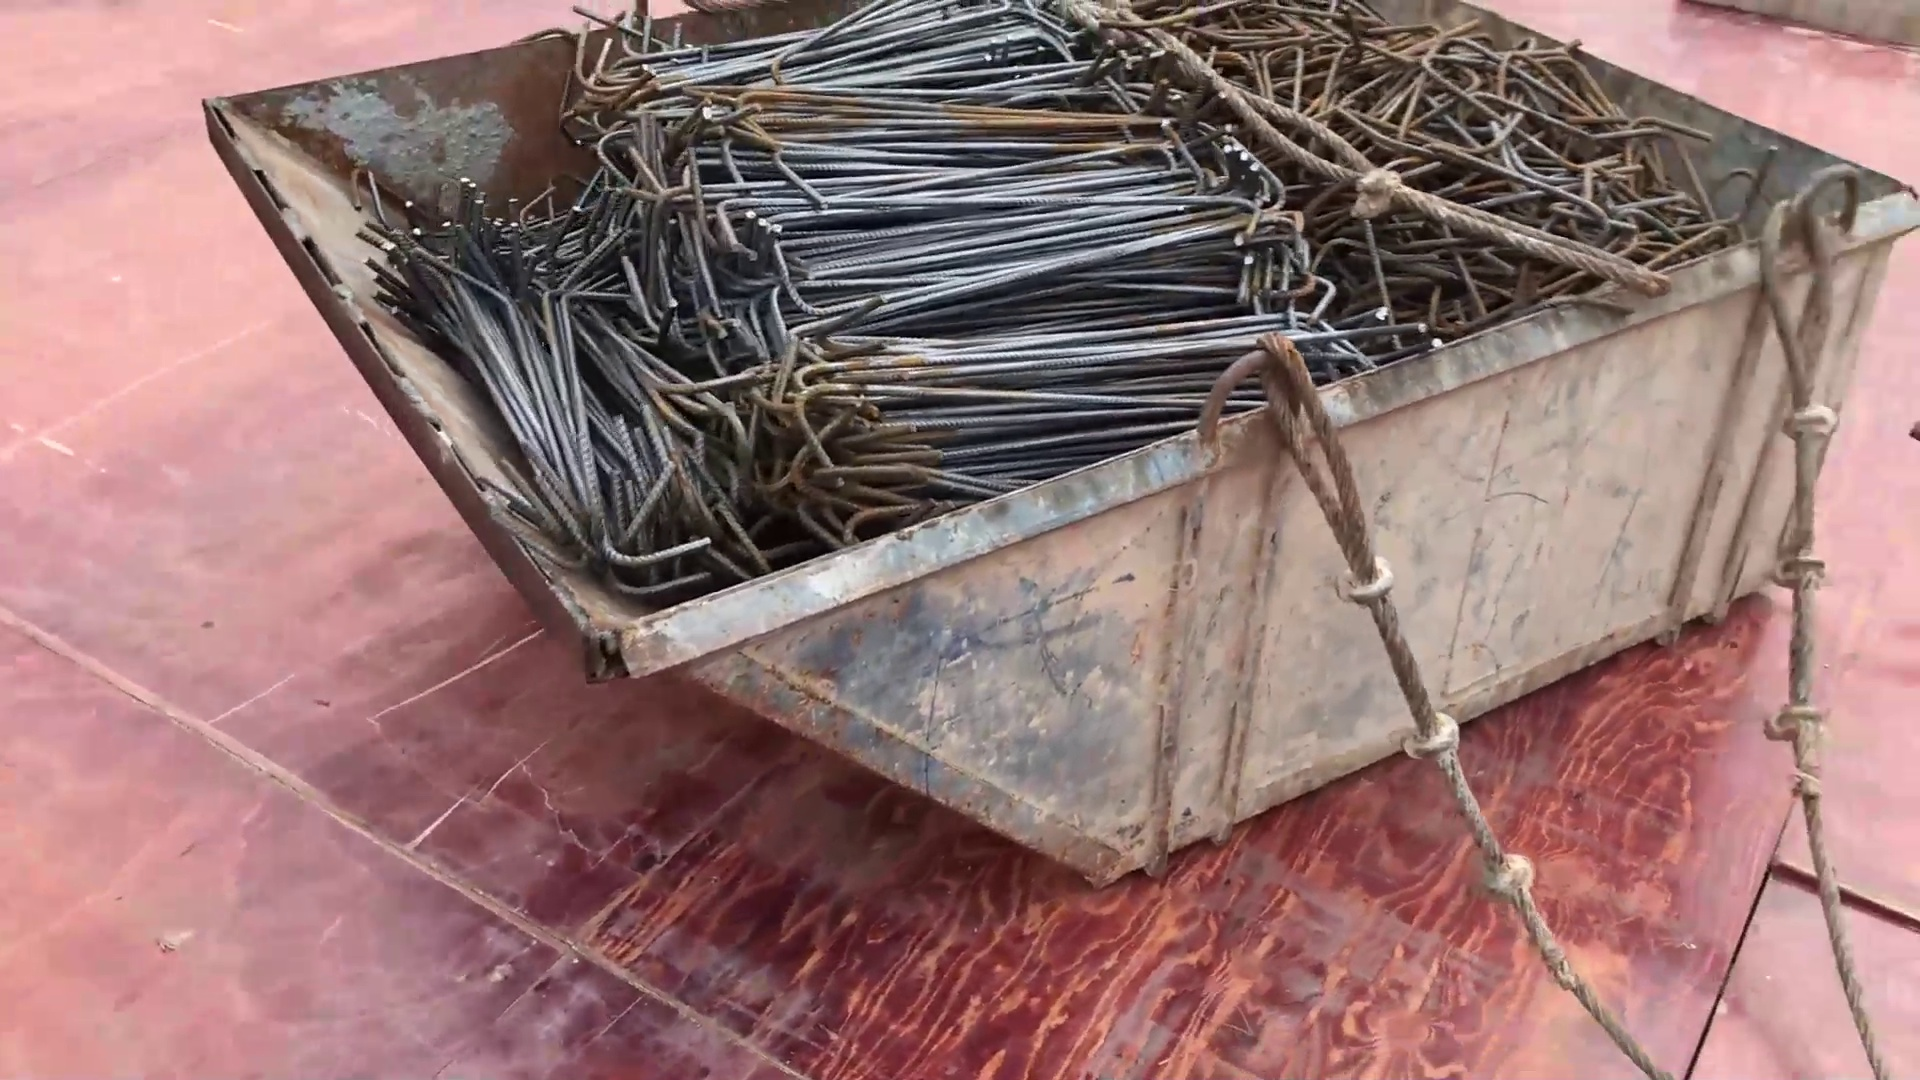hopper: (198, 33, 1903, 829)
